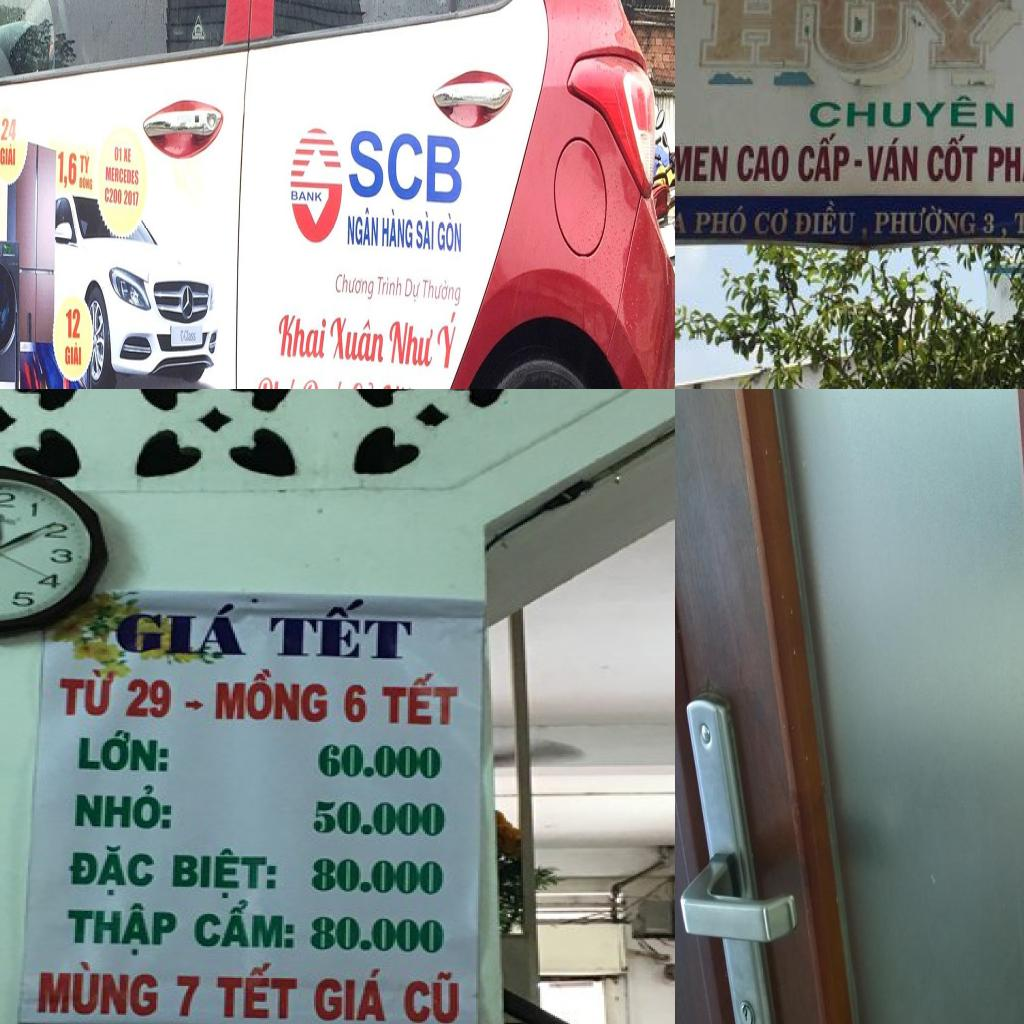text: (691, 0, 1021, 82), (269, 596, 425, 662), (348, 120, 464, 206), (810, 89, 1018, 131), (113, 602, 252, 660), (34, 959, 162, 1021), (214, 666, 333, 725), (64, 901, 180, 959), (169, 844, 282, 901), (312, 853, 448, 898), (308, 914, 450, 957), (316, 738, 448, 783), (310, 797, 450, 839), (215, 958, 301, 1024), (71, 782, 175, 836), (192, 900, 297, 952), (378, 668, 463, 730), (75, 724, 173, 776), (314, 963, 393, 1024), (69, 844, 158, 898), (870, 200, 978, 240), (794, 131, 854, 191), (58, 666, 120, 720), (330, 310, 386, 366), (862, 136, 922, 186), (276, 306, 329, 362), (925, 132, 980, 184), (792, 200, 860, 242), (736, 138, 792, 186), (122, 674, 177, 722), (675, 139, 728, 187), (388, 317, 434, 370), (689, 202, 751, 240), (985, 137, 1024, 186), (334, 265, 376, 304), (436, 308, 460, 376), (171, 972, 205, 1020), (345, 204, 380, 250), (421, 274, 463, 311), (342, 680, 374, 727), (380, 207, 414, 250), (436, 209, 462, 254), (754, 208, 790, 238), (255, 365, 298, 389), (415, 208, 437, 254), (56, 146, 78, 192), (300, 368, 347, 389), (104, 162, 139, 188), (375, 270, 403, 298), (378, 375, 432, 389), (65, 304, 82, 342), (37, 568, 64, 591), (981, 204, 998, 240), (289, 188, 324, 205), (404, 273, 422, 305), (9, 590, 41, 608), (45, 520, 73, 540), (1007, 211, 1024, 243), (0, 114, 18, 144), (63, 342, 83, 367), (50, 548, 77, 565), (103, 186, 123, 208), (0, 143, 17, 168), (0, 488, 19, 510), (78, 149, 92, 176), (347, 377, 378, 389), (122, 188, 140, 208), (179, 326, 197, 346), (28, 500, 43, 520), (79, 174, 93, 192), (113, 142, 123, 164), (122, 144, 132, 166)
